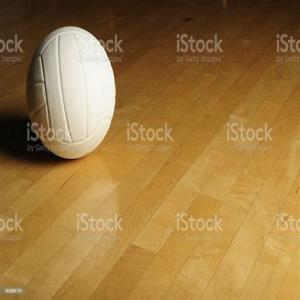Volley: (26, 26, 118, 158)
